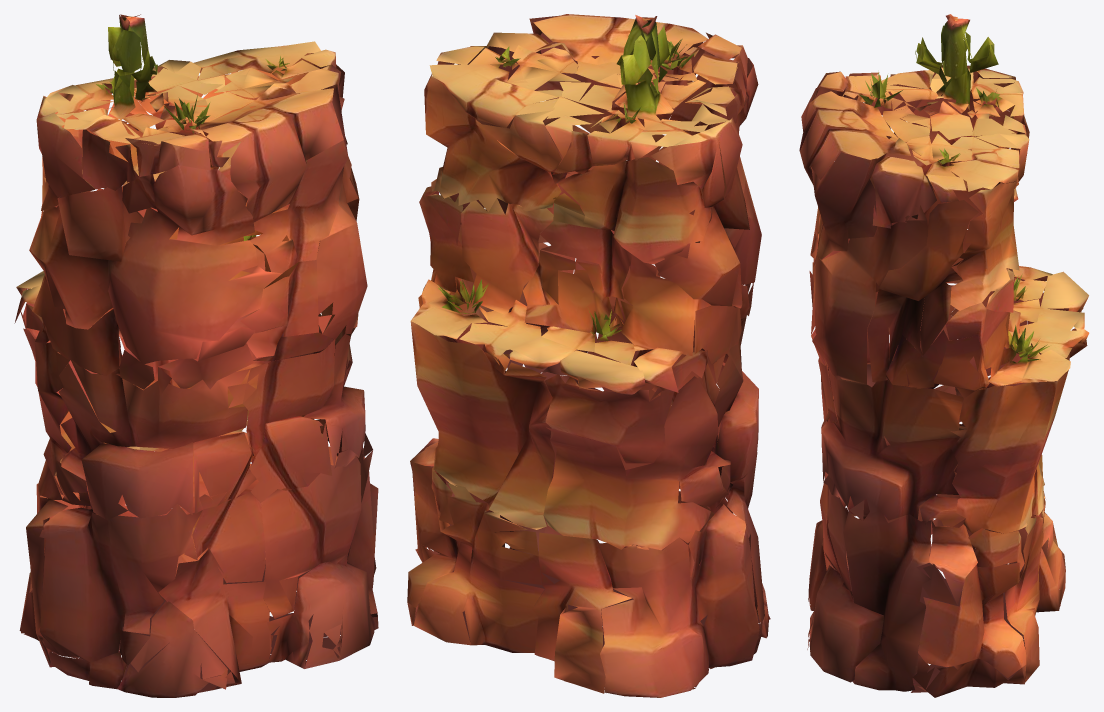
File: paredao.glb
3 views of the same model, side by side, from view 1: azimuth 30°, elevation 25°; view 2: azimuth 150°, elevation 25°; view 3: azimuth 270°, elevation 25° (orthographic). The views are drawn at different scales.
Visible parts, largest first — view 1: paredao; view 2: paredao; view 3: paredao.
Part boxes in pixels (left/top/right/bottom): paredao: left=14, top=14, right=378, bottom=697; paredao: left=407, top=14, right=770, bottom=697; paredao: left=799, top=14, right=1089, bottom=697.
Size of the model in its own units: 0.5623 by 1 by 0.4523.
Materials: 1 (1 with a texture image).
